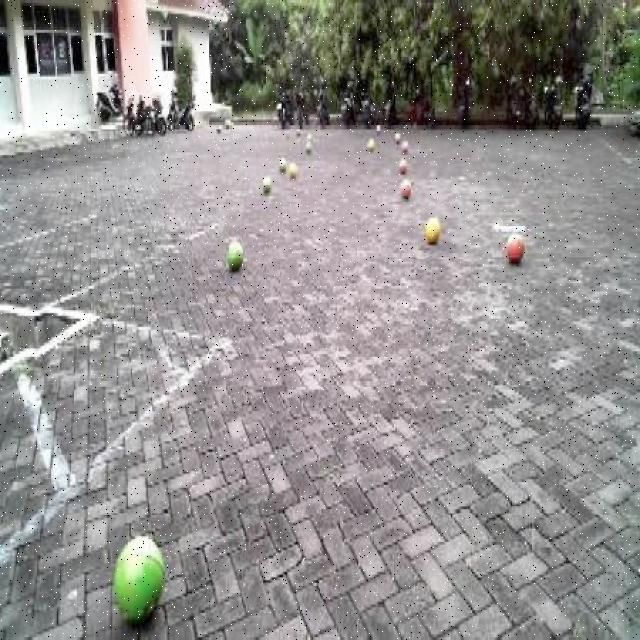buoy: (107, 516, 176, 634), (503, 224, 525, 270), (224, 235, 248, 274), (422, 210, 443, 245)
